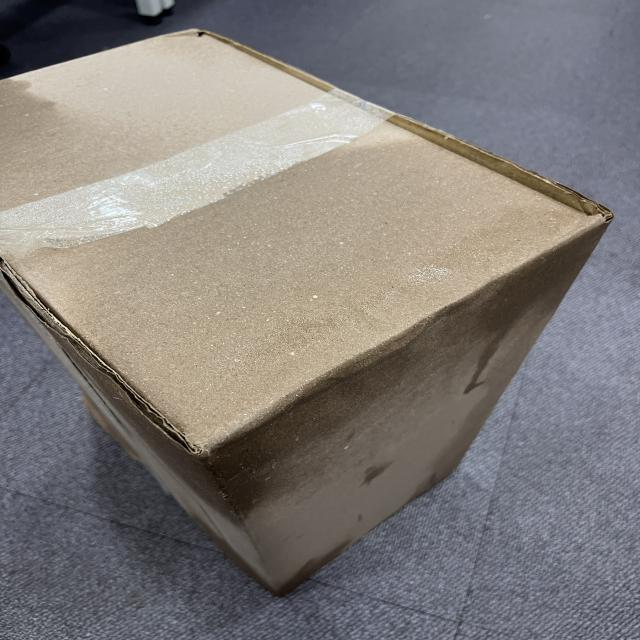wet: (321, 104, 622, 382), (65, 226, 298, 534)
